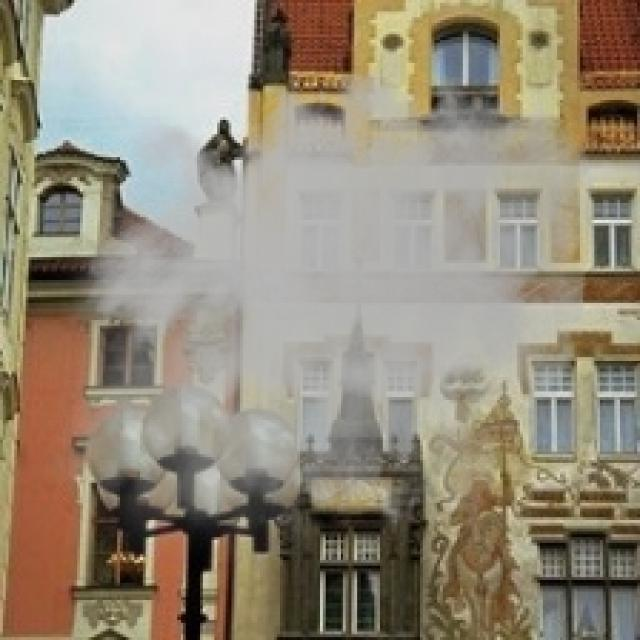smoke: (34, 32, 597, 594)
